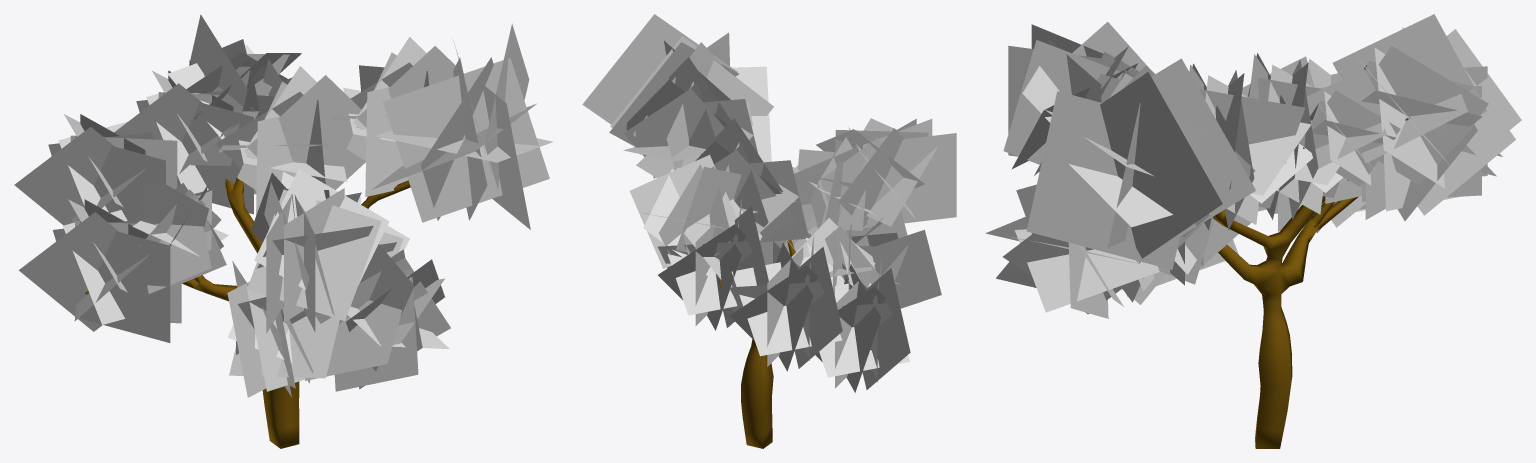
The model's file is Arbol.fbx.
The picture shows the model from 3 angles, left to right: view 1: azimuth 30°, elevation 25°; view 2: azimuth 150°, elevation 25°; view 3: azimuth 270°, elevation 25°; orthographic projection. The views are drawn at different scales.
Visible parts, largest first — view 1: Hoja.014, Hoja.003, Hoja.006, Hoja.001, Hoja.012, Hoja.007, Hoja.002, Hoja.009, Hoja.013, Hoja.011, Hoja.008, Tronco (+2 smaller); view 2: Hoja.014, Hoja.003, Hoja.007, Hoja.013, Hoja.011, Hoja.006, Hoja.009, Hoja.012, Hoja.004, Hoja.002, Tronco, Hoja.008 (+1 smaller); view 3: Hoja.014, Hoja.011, Hoja.003, Tronco, Hoja.001, Hoja.013, Hoja.009, Hoja.010, Hoja.012, Hoja.005, Hoja.007, Hoja.006 (+2 smaller).
Boxes of the visible parts, left/top/right/bottom form: Hoja.014: left=371, top=23, right=553, bottom=229; Hoja.003: left=247, top=169, right=389, bottom=333; Hoja.006: left=18, top=199, right=181, bottom=342; Hoja.001: left=305, top=244, right=450, bottom=391; Hoja.012: left=215, top=66, right=365, bottom=215; Hoja.007: left=14, top=114, right=177, bottom=225; Hoja.002: left=227, top=261, right=339, bottom=397; Hoja.009: left=114, top=70, right=256, bottom=214; Hoja.013: left=330, top=37, right=455, bottom=196; Hoja.011: left=167, top=14, right=301, bottom=165; Hoja.008: left=132, top=174, right=228, bottom=293; Tronco: left=85, top=177, right=410, bottom=448; Hoja.014: left=582, top=14, right=773, bottom=178; Hoja.003: left=816, top=118, right=956, bottom=230; Hoja.007: left=729, top=236, right=842, bottom=371; Hoja.013: left=623, top=57, right=757, bottom=178; Hoja.011: left=629, top=154, right=762, bottom=292; Hoja.006: left=815, top=259, right=910, bottom=392; Hoja.009: left=658, top=197, right=768, bottom=330; Hoja.012: left=695, top=118, right=808, bottom=242; Hoja.004: left=792, top=137, right=879, bottom=231; Hoja.002: left=806, top=210, right=941, bottom=308; Tronco: left=719, top=240, right=871, bottom=448; Hoja.008: left=791, top=218, right=880, bottom=294; Hoja.014: left=1026, top=58, right=1255, bottom=269; Hoja.011: left=1332, top=14, right=1488, bottom=188; Hoja.003: left=1003, top=21, right=1147, bottom=175; Tronco: left=1212, top=117, right=1410, bottom=448; Hoja.001: left=985, top=184, right=1165, bottom=318; Hoja.013: left=1183, top=63, right=1312, bottom=230; Hoja.009: left=1325, top=67, right=1515, bottom=220; Hoja.010: left=1299, top=69, right=1400, bottom=186; Hoja.012: left=1247, top=53, right=1343, bottom=219; Hoja.005: left=1138, top=214, right=1251, bottom=285; Hoja.007: left=1331, top=27, right=1521, bottom=176; Hoja.006: left=1258, top=58, right=1365, bottom=233.
Size of the model in its own units: 867 by 773 by 804.
